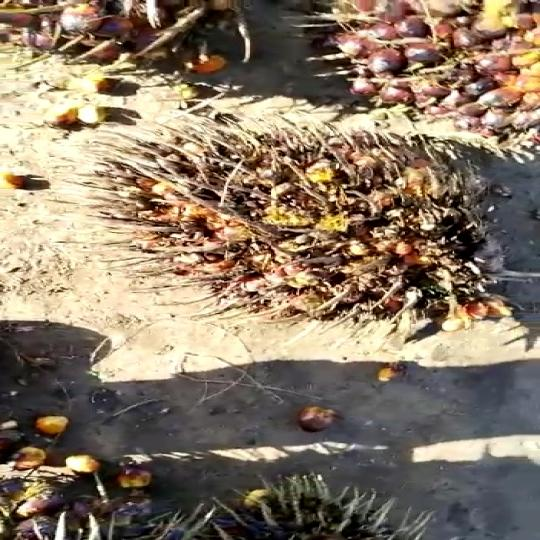terlalu masak: (90, 120, 525, 351)
